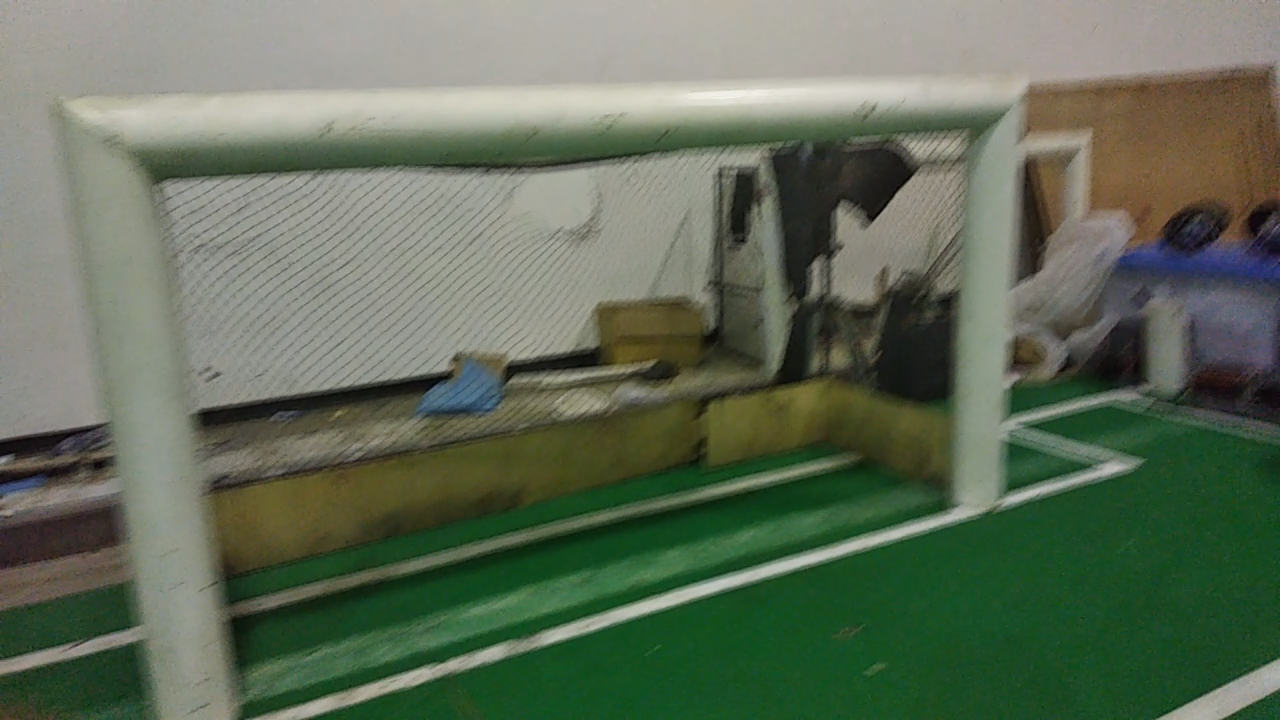gawang: (34, 55, 1052, 716)
